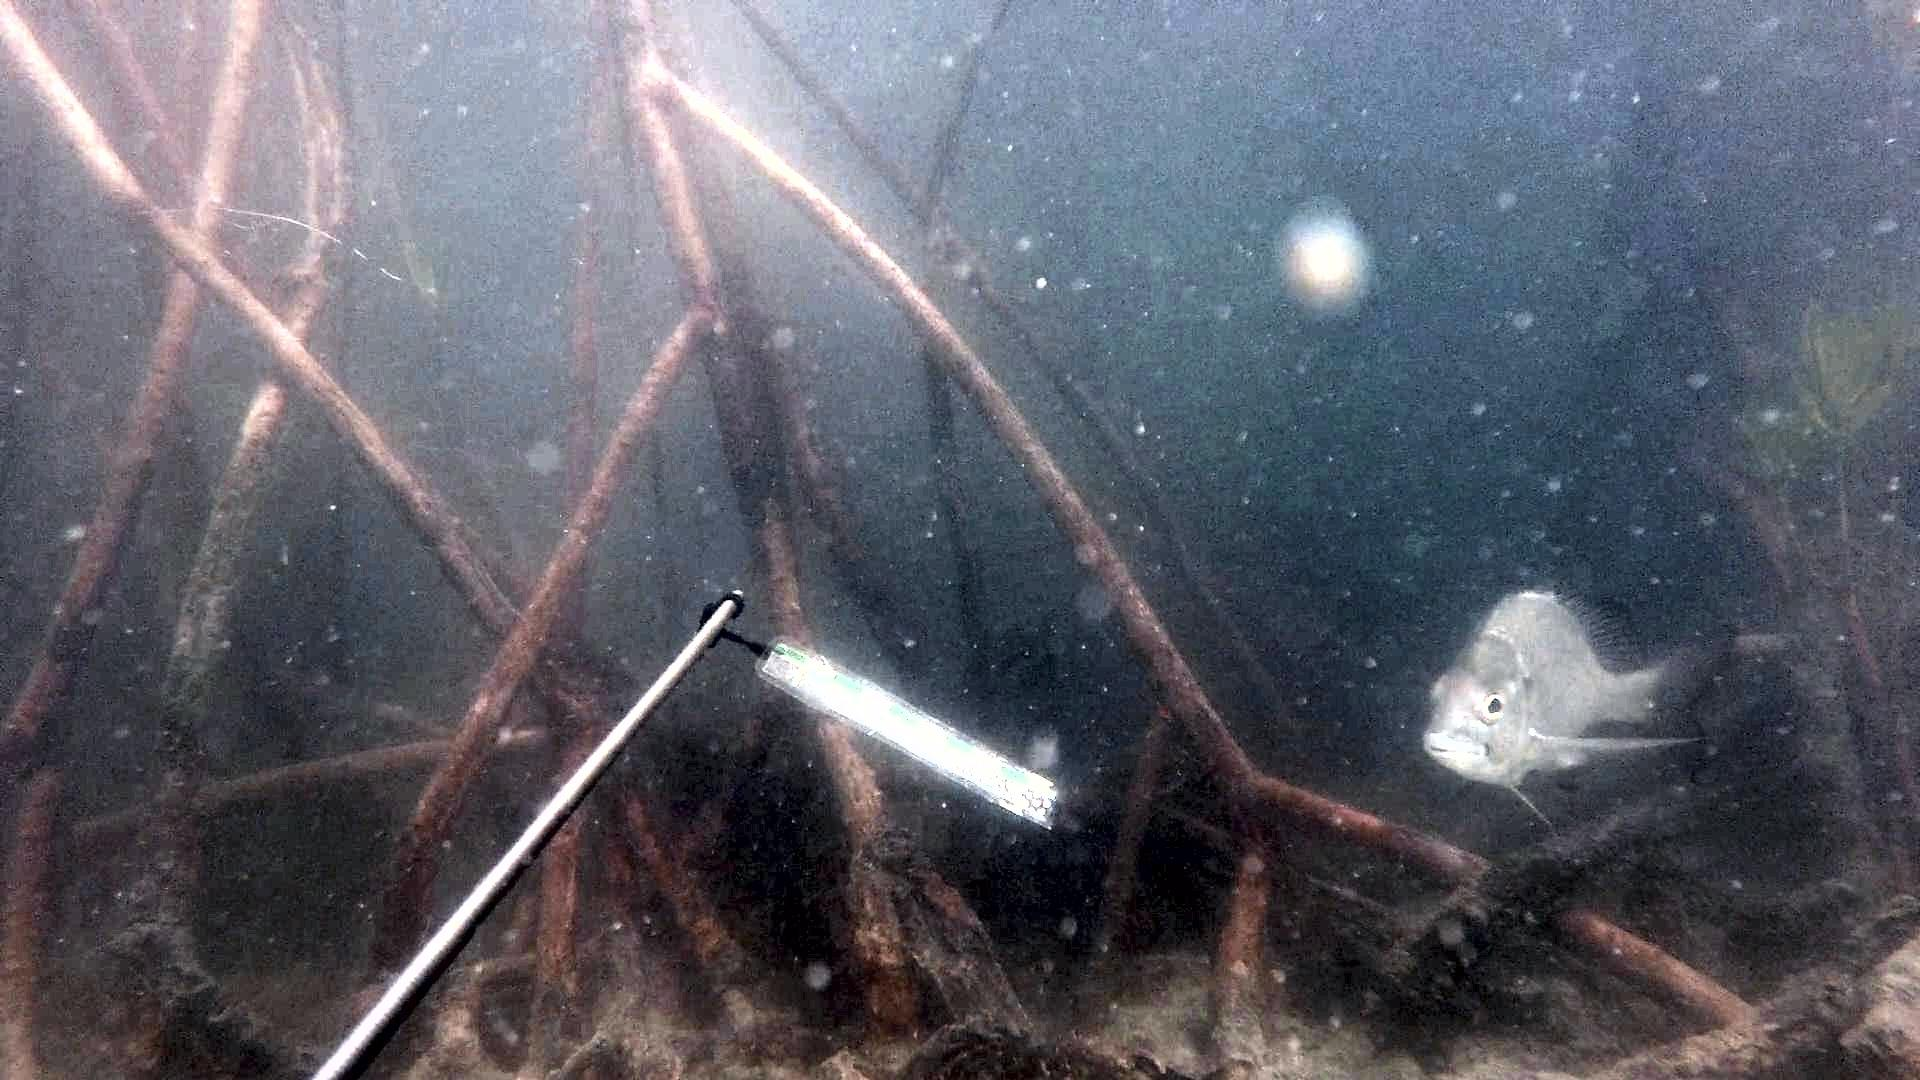acanthopagrus palmaris: (1415, 579, 1745, 835)
